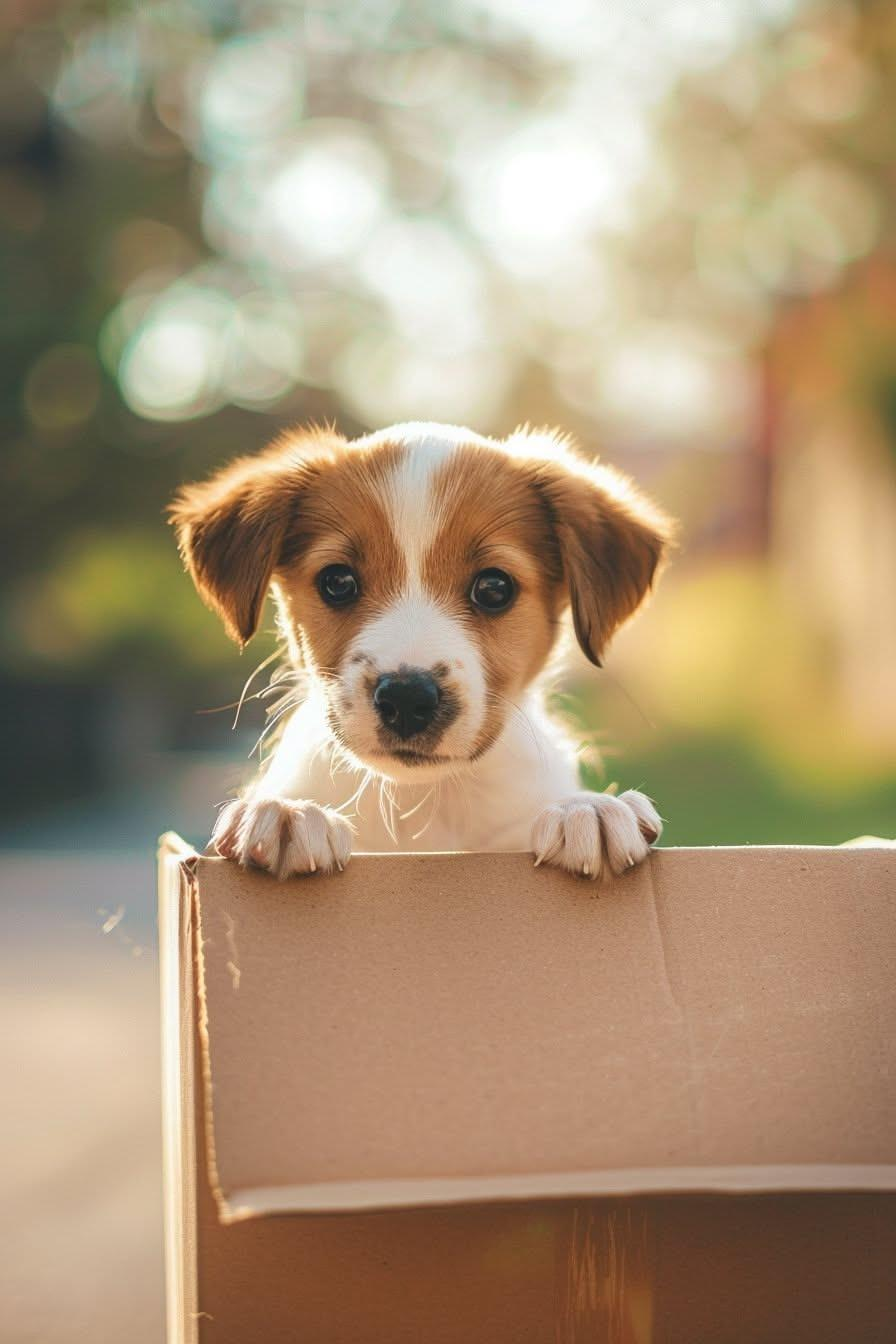puppy-dog: (170, 420, 675, 887)
